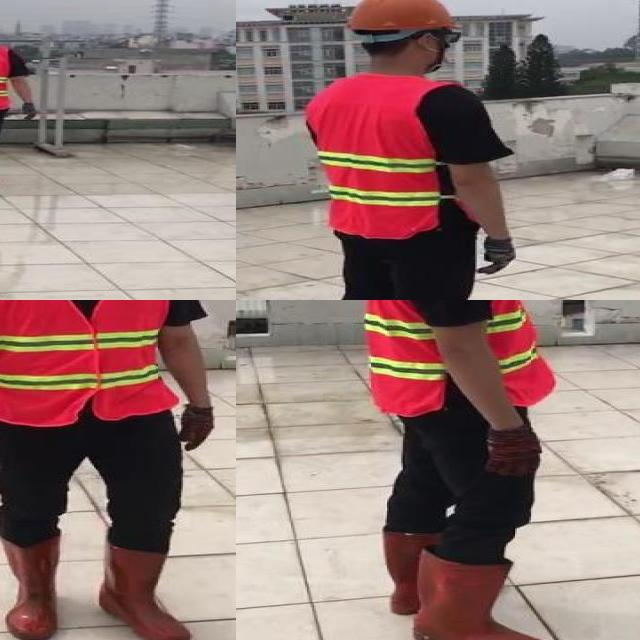boots: (412, 549, 556, 640), (99, 541, 188, 640), (0, 540, 58, 640), (380, 529, 437, 614)
hand_glove: (485, 427, 545, 477), (477, 235, 519, 276), (179, 408, 215, 449), (18, 103, 38, 121)
head_helmet: (343, 0, 457, 33)
person: (347, 300, 590, 640), (0, 300, 231, 640), (284, 0, 534, 300), (0, 12, 41, 198)
vest: (306, 70, 443, 239), (365, 300, 557, 416), (0, 300, 170, 420)
